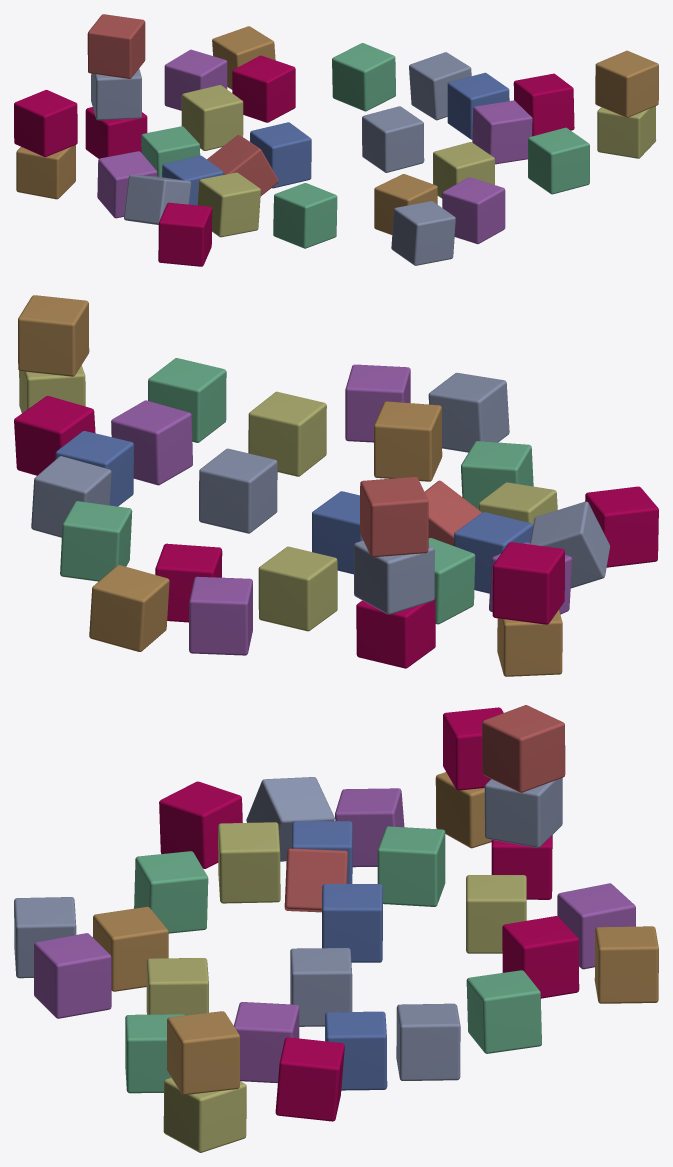
The model's file is Multi_Dice_Multi_Color_FBX.fbx.
3 renders of one model, top to bottom at view 1: azimuth 30°, elevation 25°; view 2: azimuth 150°, elevation 25°; view 3: azimuth 270°, elevation 25°, orthographic. The views are drawn at different scales.
Visible parts, largest first — view 1: polySurface77; view 2: polySurface77; view 3: polySurface77.
Boxes of the visible parts, box(x1,y1,x2,y2) form: polySurface77: box(14, 14, 658, 266); polySurface77: box(14, 295, 658, 676); polySurface77: box(14, 705, 658, 1152).
Bounding box in the file's own units: 44.69 × 10.27 × 35.89.
